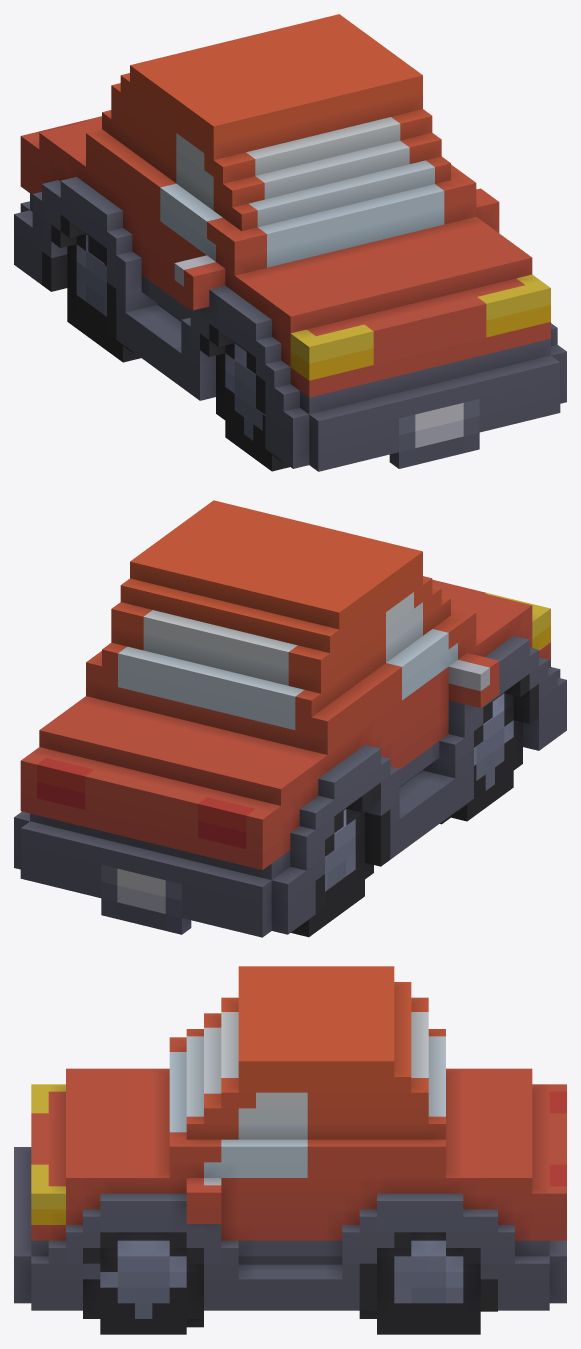
Rendered from sedan.glb.
3 views of the same model, one above another, from view 1: azimuth 30°, elevation 25°; view 2: azimuth 150°, elevation 25°; view 3: azimuth 270°, elevation 25° (orthographic). The views are drawn at different scales.
Visible parts, largest first — view 1: voxels; view 2: voxels; view 3: voxels.
Part boxes in pixels (x1,y1,x2,y2): voxels: (14, 14, 566, 471); voxels: (14, 500, 566, 937); voxels: (14, 966, 566, 1334).
Size of the model in its own units: 1.54 by 1.38 by 2.6.
